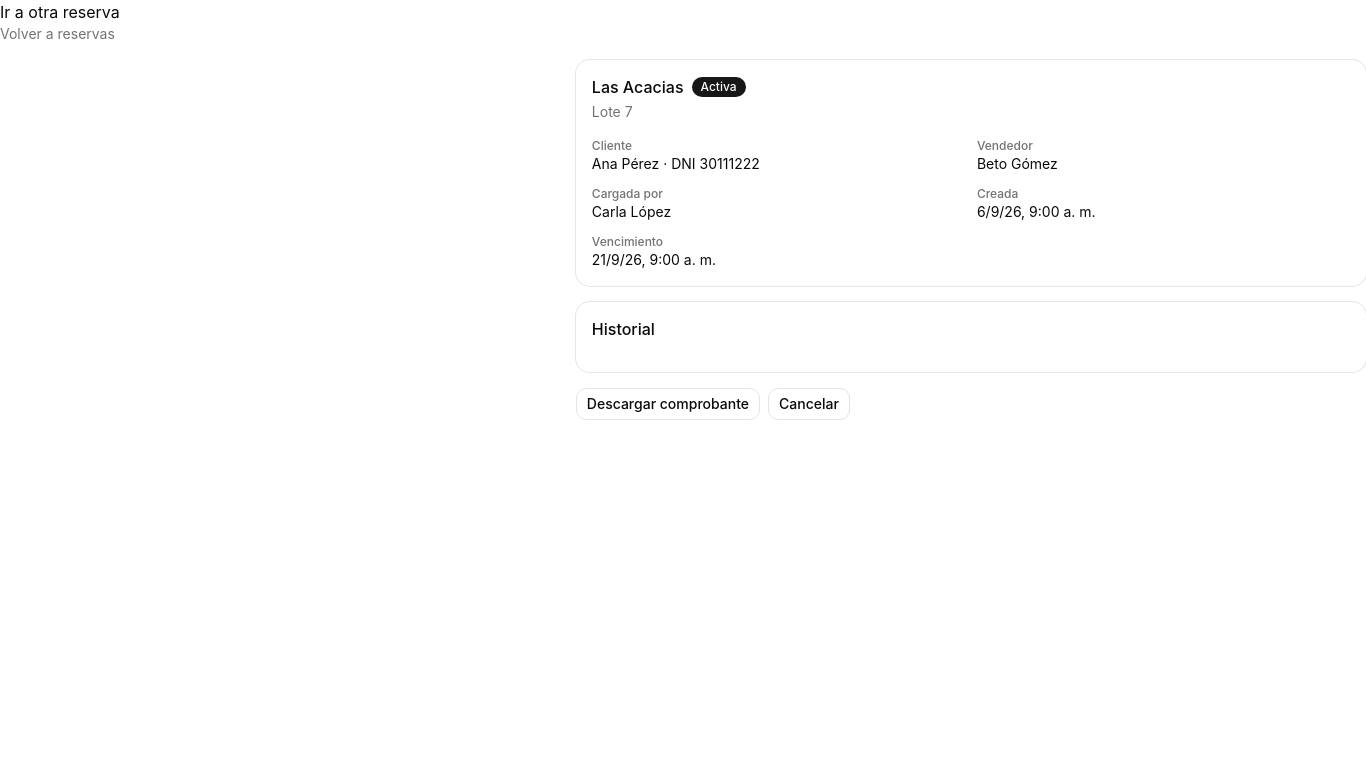
ReservationDetailsPage › does not apply a cancellation response after navigating to another reservation
This screenshot has width=1366, height=768.
Expected: the text "Las Acacias" is shown, [592,76,684,98]
Click the button "Cancelar" at (809, 404), box [768,388,850,420]
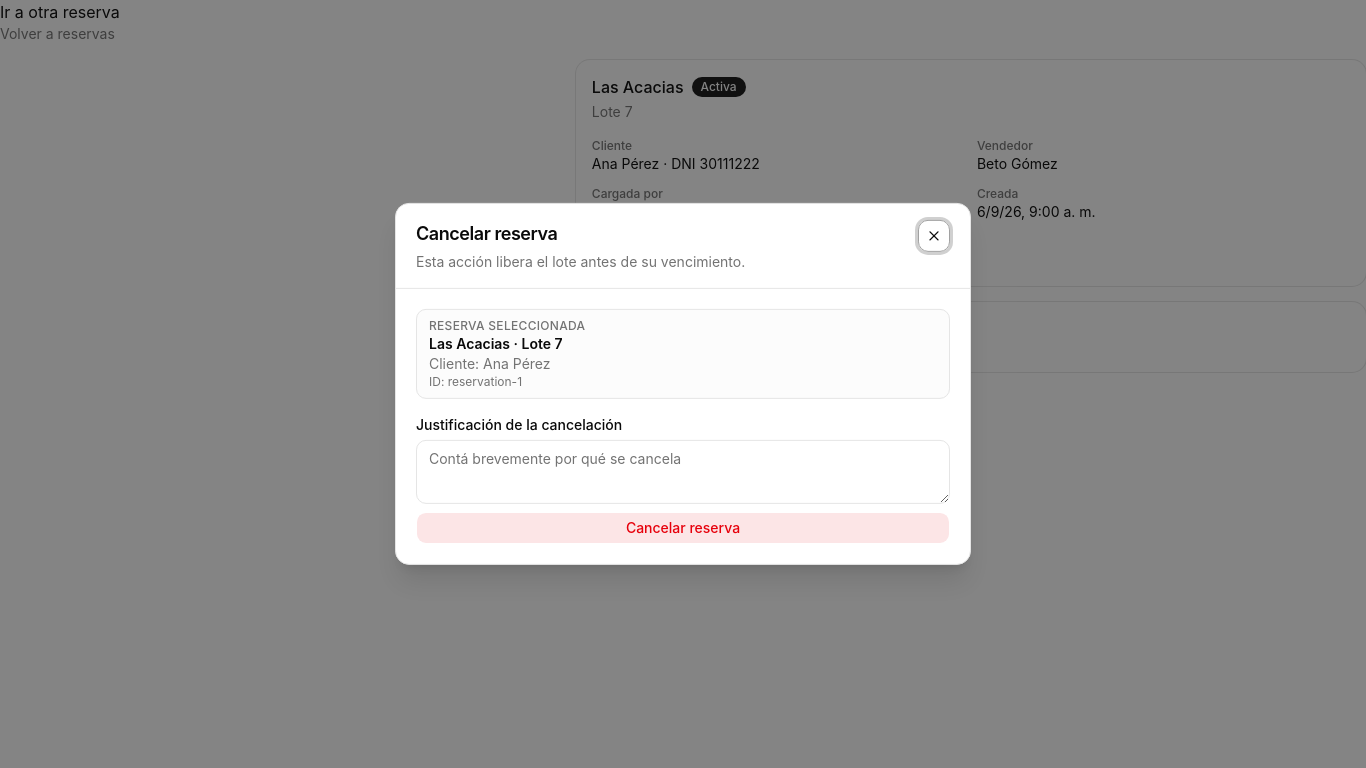
Type "Cliente desistió" into the text box labelled "Justificación de la cancelación" at (683, 472), box [416,440,950,504]
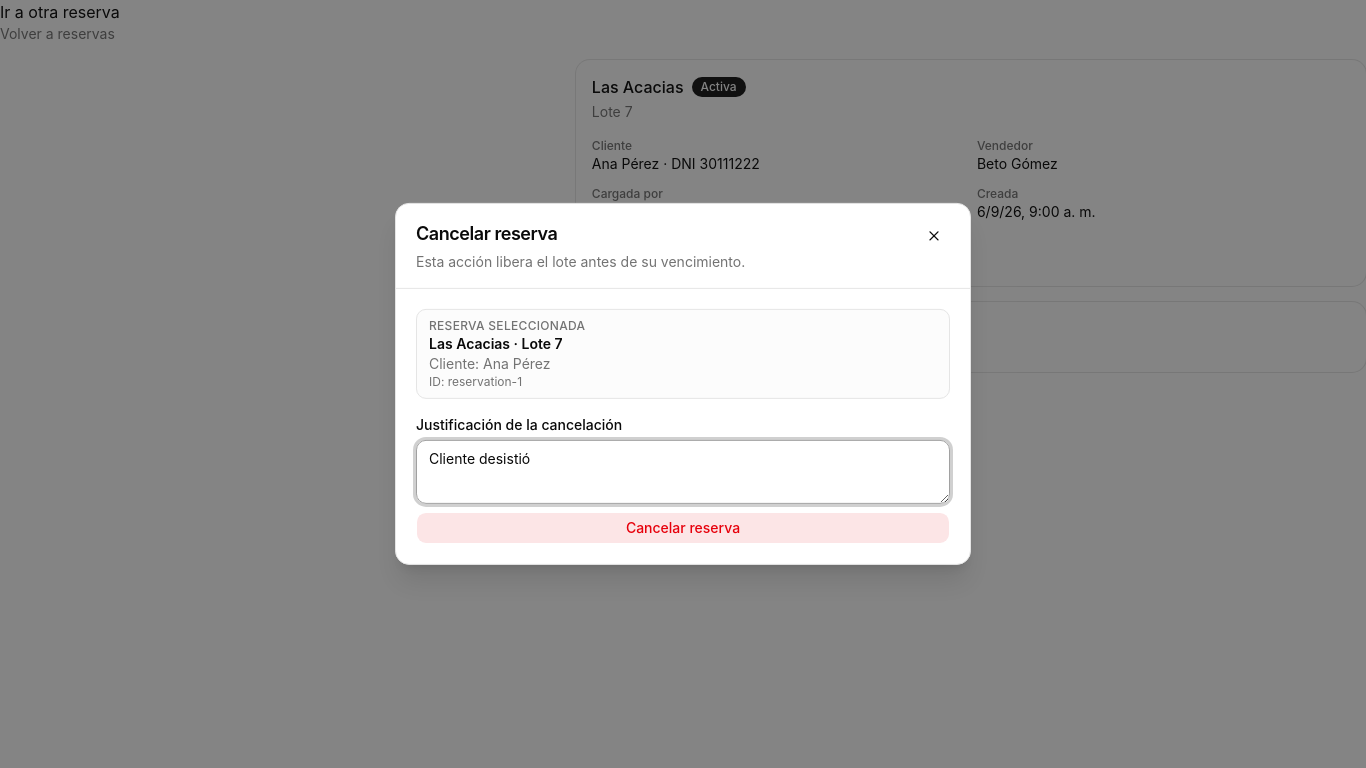
Click the button "Cancelar reserva" at (683, 528), box [416,512,950,544]
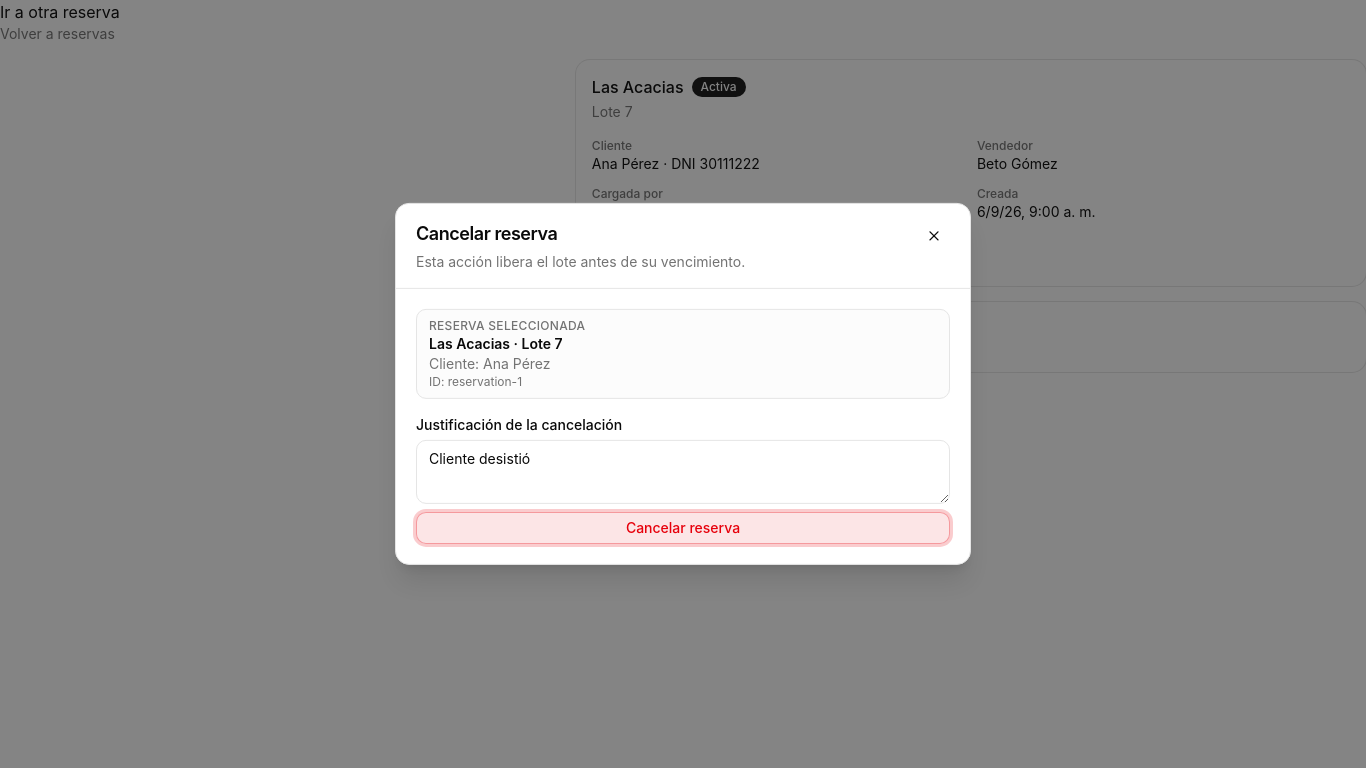
Click the button named "Cerrar cancelación" at (934, 236), box [918,220,950,252]
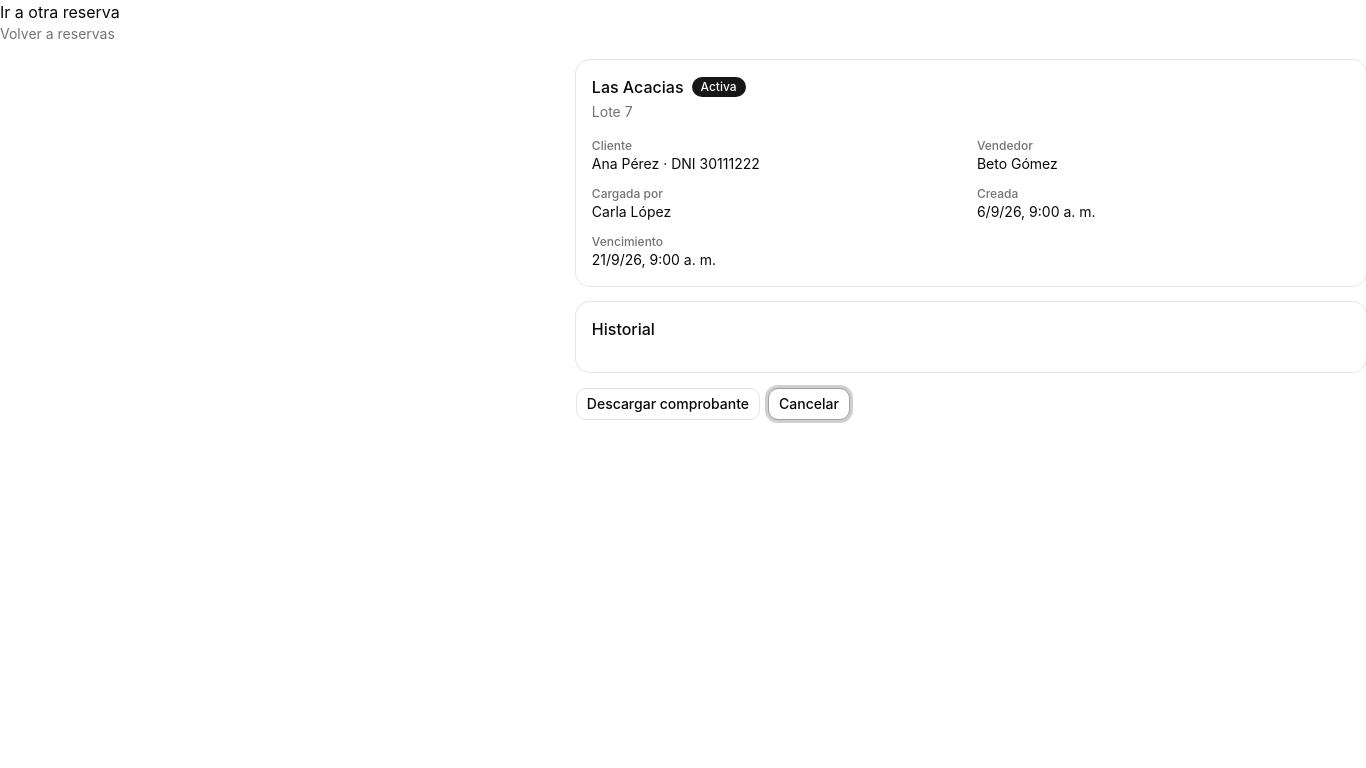
Click the link "Ir a otra reserva" at (60, 12), box [0,2,120,22]
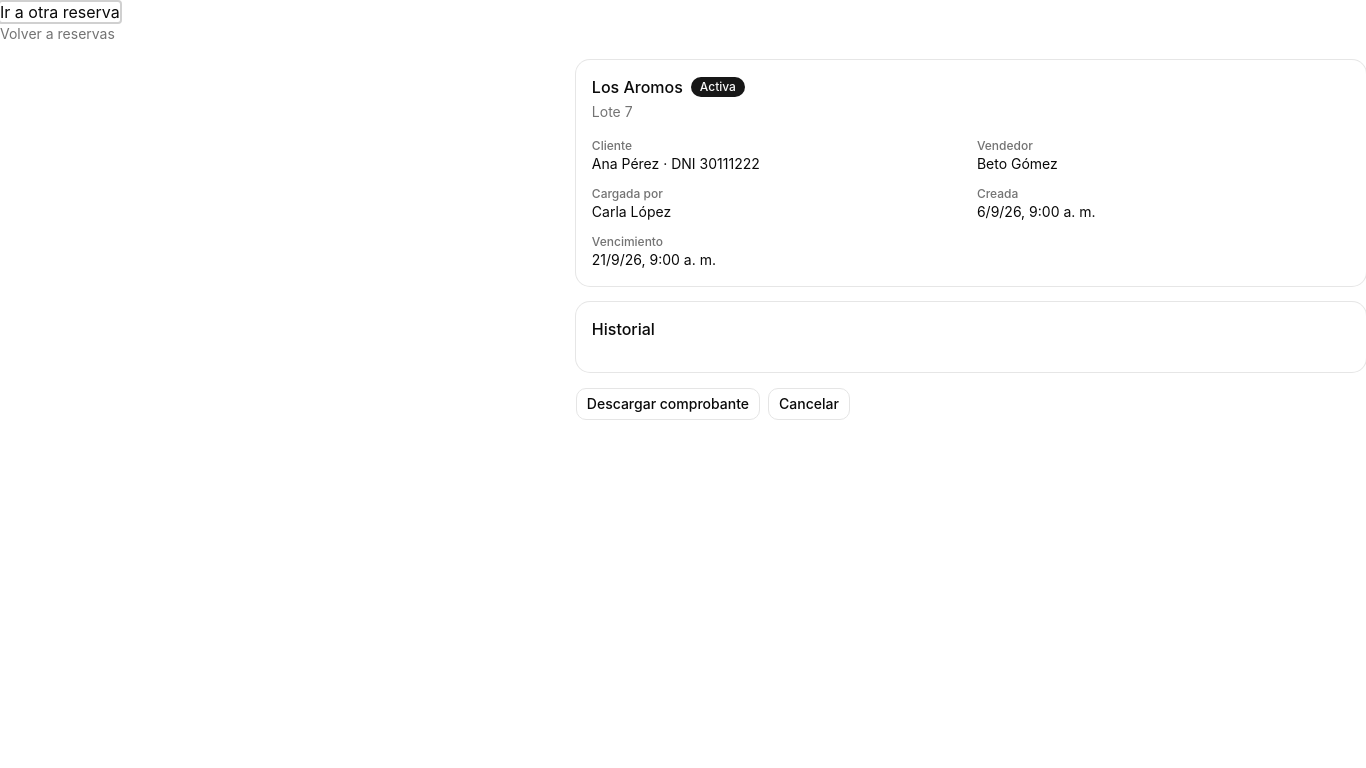
Result: the text "Los Aromos" is shown at [592,76,683,98]
Result: the text "Las Acacias" is gone
